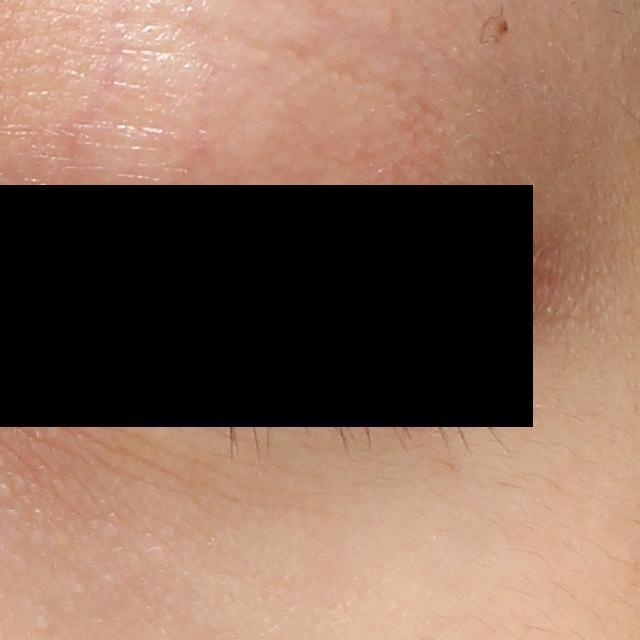nevus: (492, 14, 514, 38)
